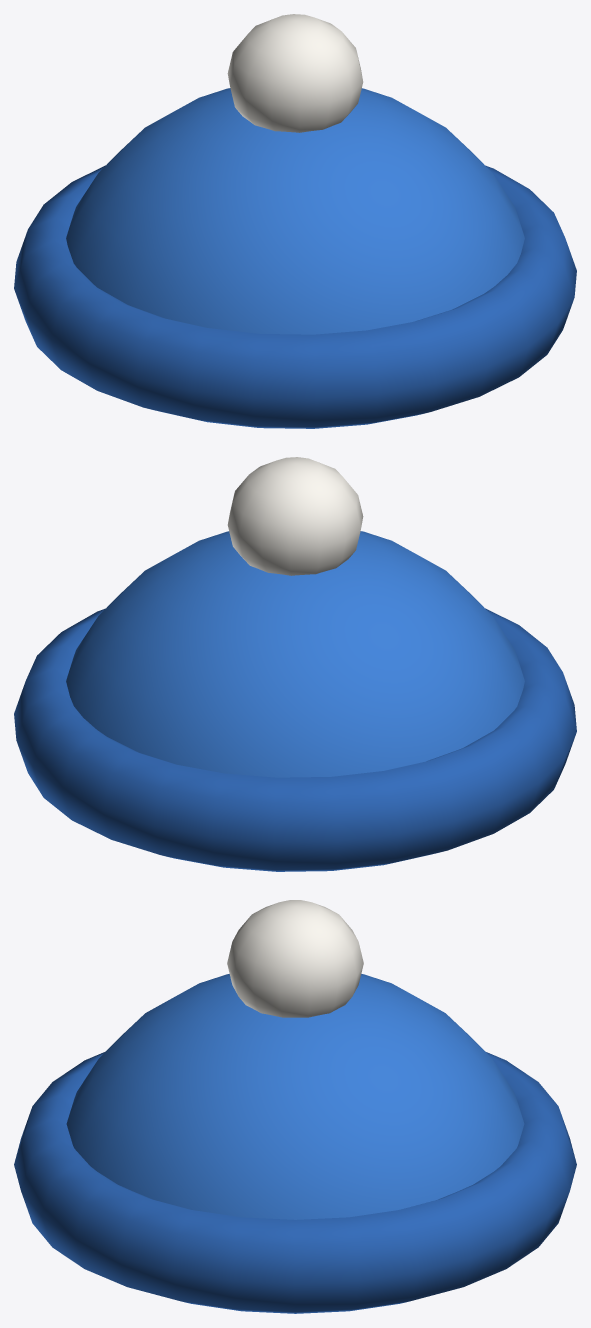
The model's file is hat_beanie.glb.
The picture shows the model from 3 angles, top to bottom: view 1: azimuth 30°, elevation 25°; view 2: azimuth 150°, elevation 25°; view 3: azimuth 270°, elevation 25°; orthographic projection.
Parts seen in each view (by area): view 1: hat_beanie; view 2: hat_beanie; view 3: hat_beanie.
Boxes of the visible parts, left/top/right/bottom form: hat_beanie: left=14, top=14, right=576, bottom=428; hat_beanie: left=14, top=457, right=576, bottom=871; hat_beanie: left=14, top=900, right=576, bottom=1313.
Size of the model in its own units: 0.494 by 0.2955 by 0.494.
